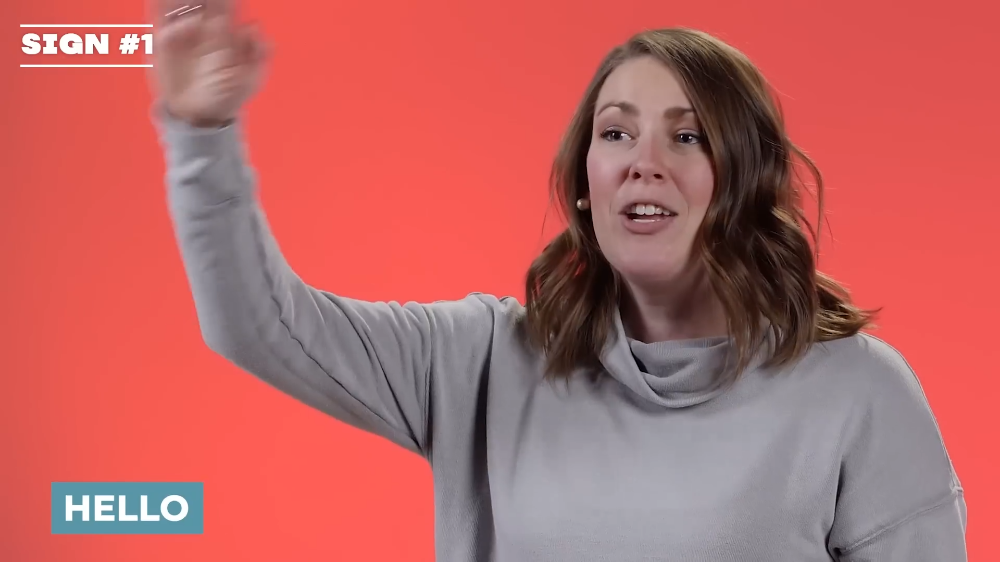hello: (147, 1, 280, 131)
